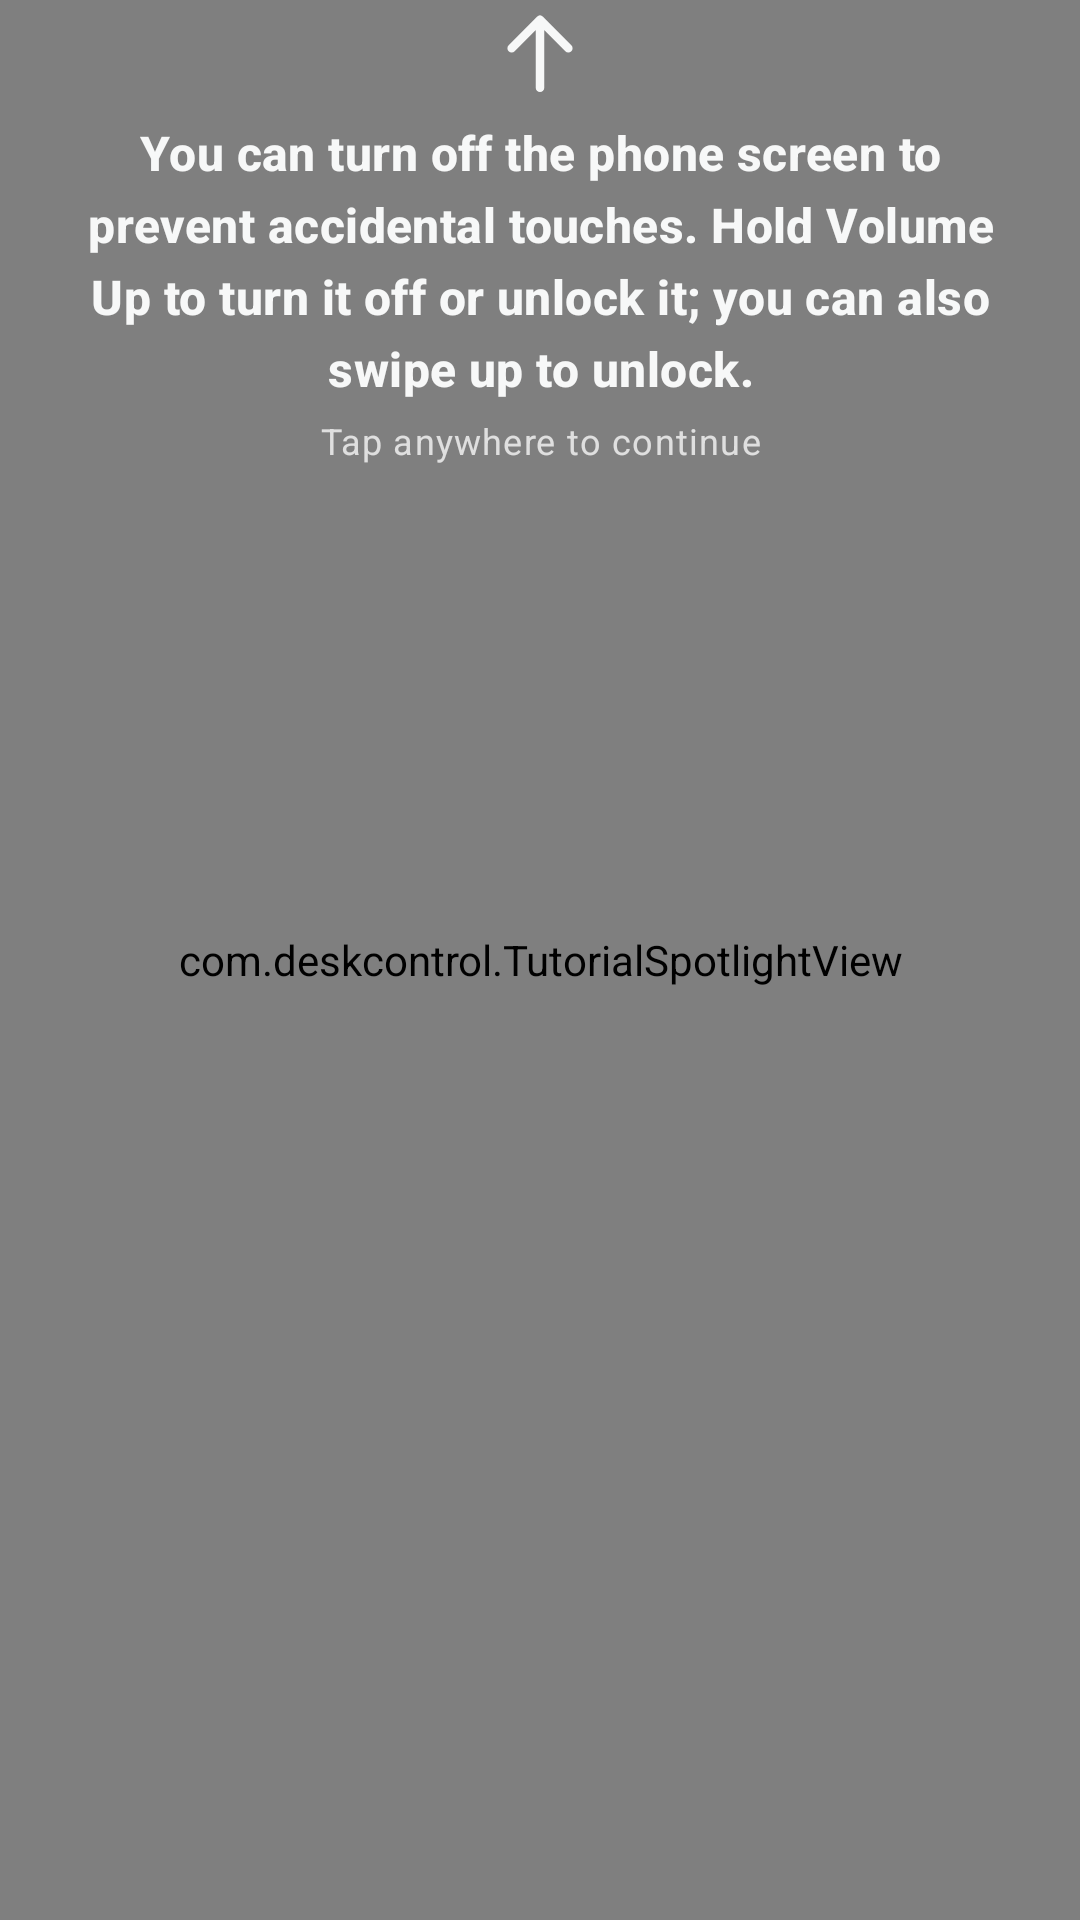

Screen size 1080x1920. Icon name, then its box in pixels as bbox(x1, y1, x2, y2):
intro arrow up: bbox(507, 15, 573, 92)
